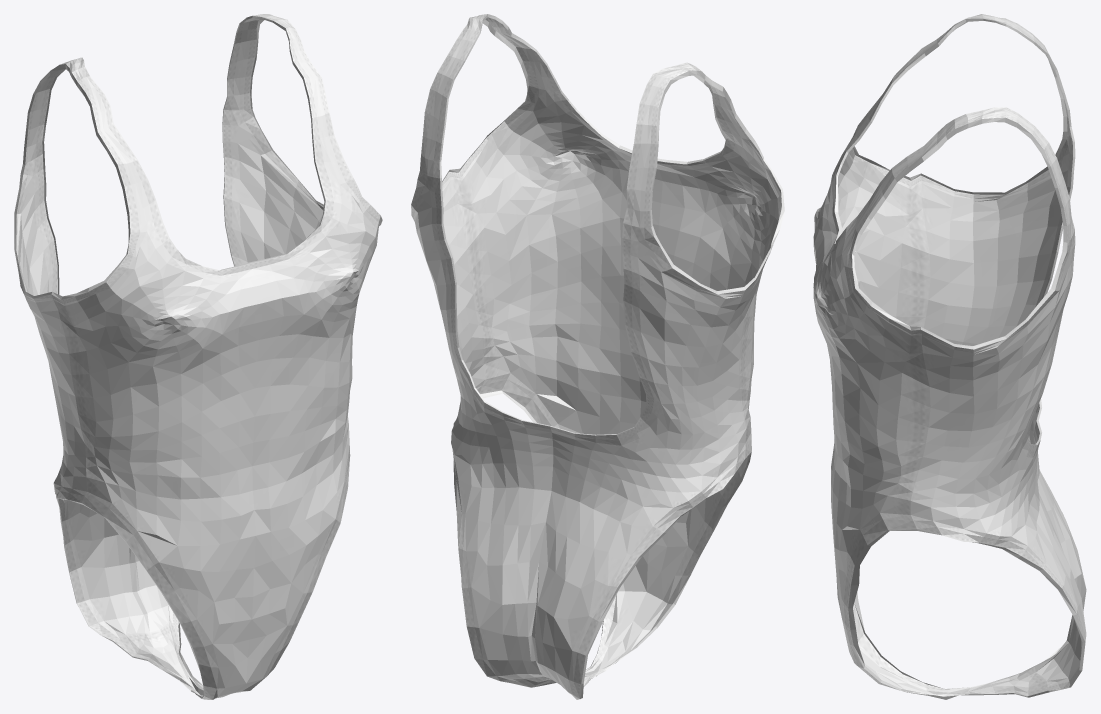
Rendered from mhw_punkduck_one_piece_bikini01.glb.
3 renders of one model, left to right at view 1: azimuth 30°, elevation 25°; view 2: azimuth 150°, elevation 25°; view 3: azimuth 270°, elevation 25°, orthographic.
Parts seen in each view (by area): view 1: mhw_punkduck_one_piece_bikini01; view 2: mhw_punkduck_one_piece_bikini01; view 3: mhw_punkduck_one_piece_bikini01.
Boxes of the visible parts, x1,y1,x2,y2 form: mhw_punkduck_one_piece_bikini01: [14, 14, 382, 699]; mhw_punkduck_one_piece_bikini01: [411, 14, 784, 699]; mhw_punkduck_one_piece_bikini01: [813, 14, 1086, 699].
Size of the model in its own units: 0.3583 by 0.6822 by 0.2656.
Materials: 1 (1 with a texture image).
